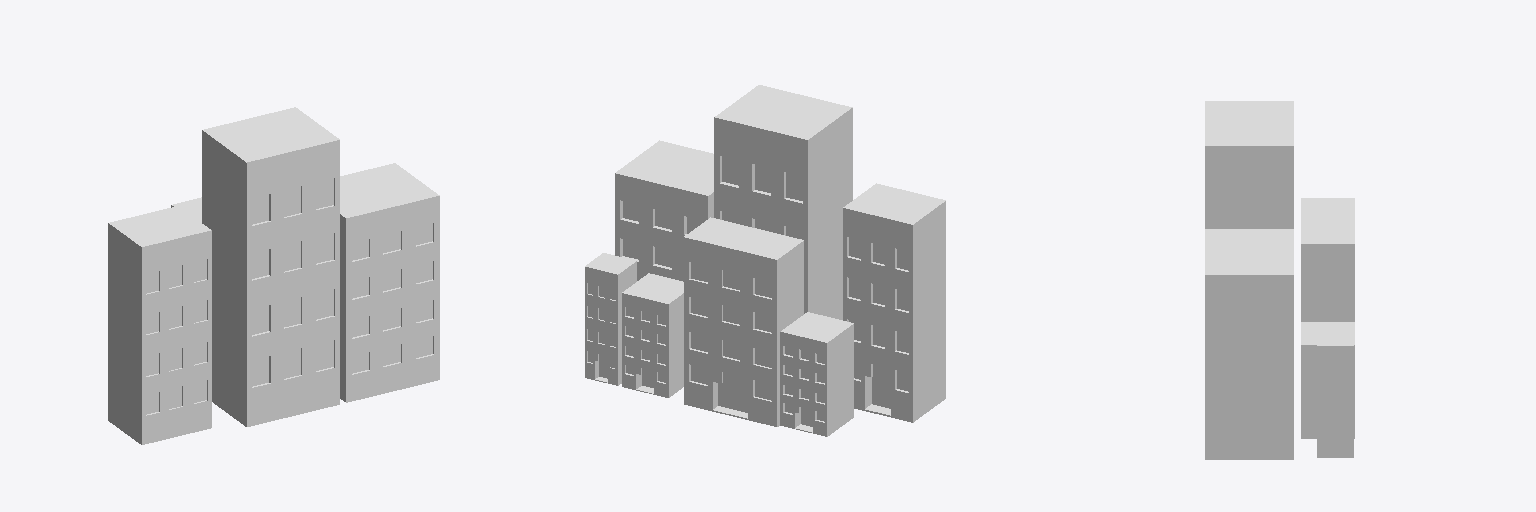
The picture shows the model from 3 angles: view 1: azimuth 30°, elevation 25°; view 2: azimuth 150°, elevation 25°; view 3: azimuth 270°, elevation 25°; orthographic projection.
Visible parts, largest first — view 1: 立方体.003_立方体.004; view 2: 立方体.003_立方体.004; view 3: 立方体.003_立方体.004.
Part boxes in pixels (bbox=[...]): 立方体.003_立方体.004: bbox=[108, 107, 439, 444]; 立方体.003_立方体.004: bbox=[585, 85, 945, 436]; 立方体.003_立方体.004: bbox=[1205, 101, 1354, 459].
Size of the model in its own units: 12.5 by 10.81 by 5.57.
1 materials, 1 textured.